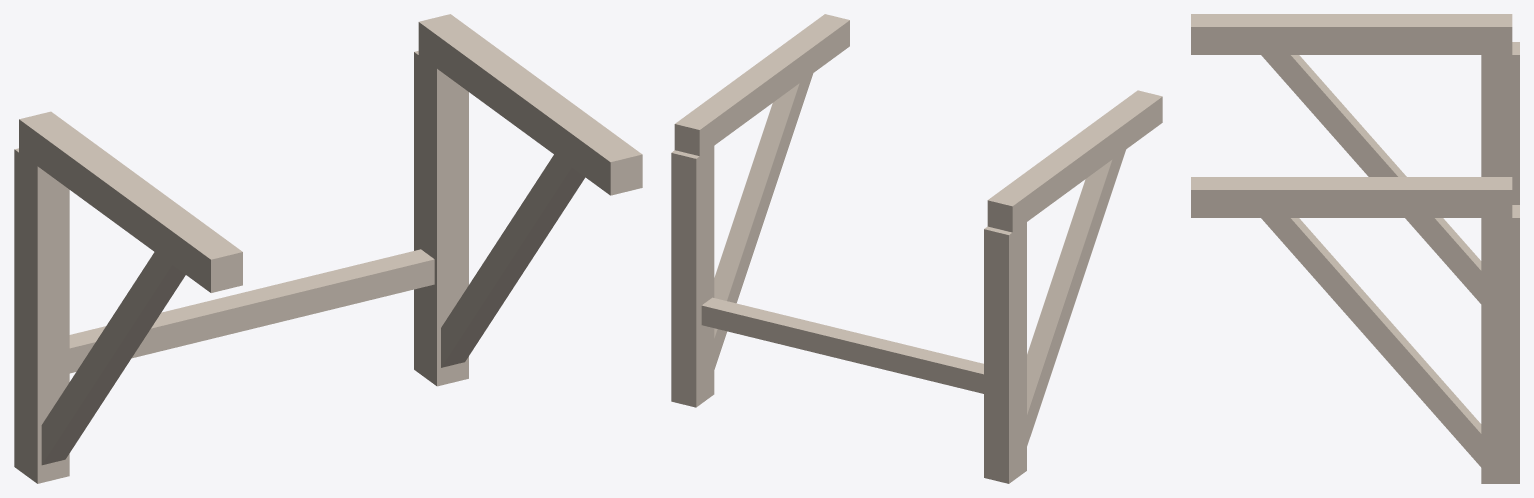
The model's file is SM_Fixture_AcBracket_01.gltf.
3 views of the same model, side by side, from view 1: azimuth 30°, elevation 25°; view 2: azimuth 150°, elevation 25°; view 3: azimuth 270°, elevation 25° (orthographic). The views are drawn at different scales.
Visible parts, largest first — view 1: SM_Fixture_AcBracket_01; view 2: SM_Fixture_AcBracket_01; view 3: SM_Fixture_AcBracket_01.
Boxes of the visible parts, x1=… form: SM_Fixture_AcBracket_01: x1=14, y1=14, x2=642, y2=483; SM_Fixture_AcBracket_01: x1=671, y1=14, x2=1162, y2=483; SM_Fixture_AcBracket_01: x1=1191, y1=14, x2=1519, y2=483.
Bounding box in the file's own units: 0.54 × 0.42 × 0.426.
Materials: 1 (1 with a texture image).
